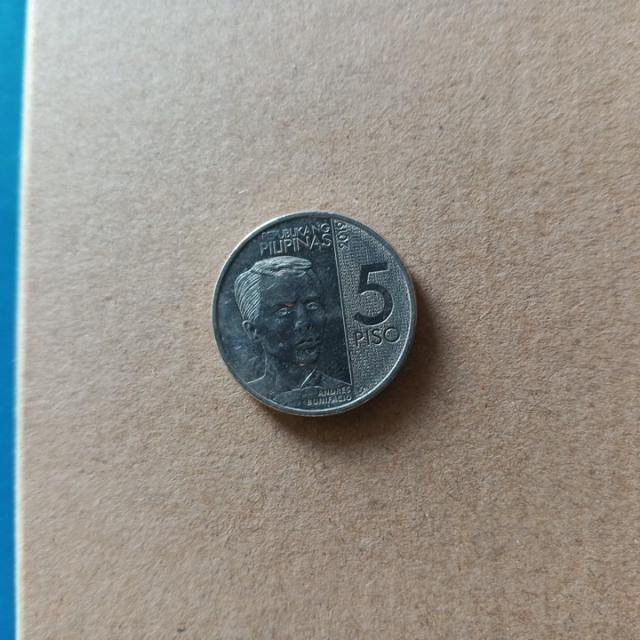5 peso: (207, 197, 421, 431)
